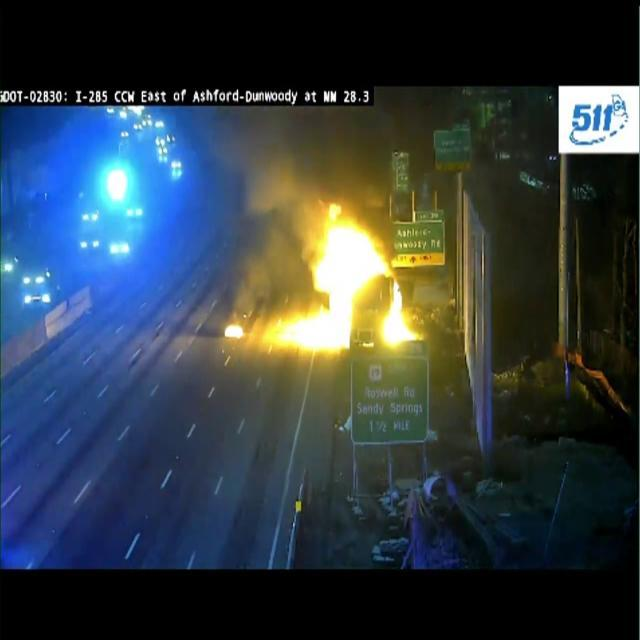Fire: (278, 205, 414, 355), (221, 316, 249, 342)
Smoke: (213, 100, 389, 230)
